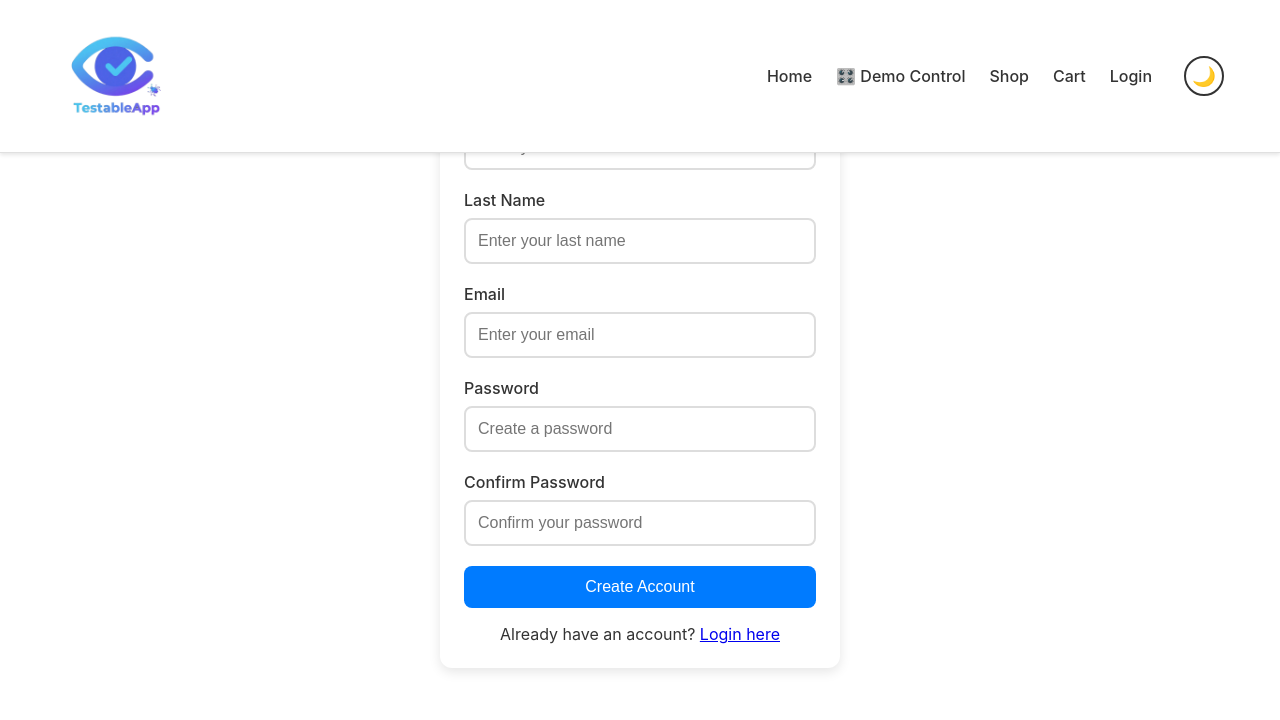
Test: Authentication Flow › Navigation between auth pages › should navigate from register to login
The width and height of the screenshot is (1280, 720).
(page scrolled)
Click the link with test id "login-link" at (740, 634), box [700, 624, 780, 644]
(page scrolled)
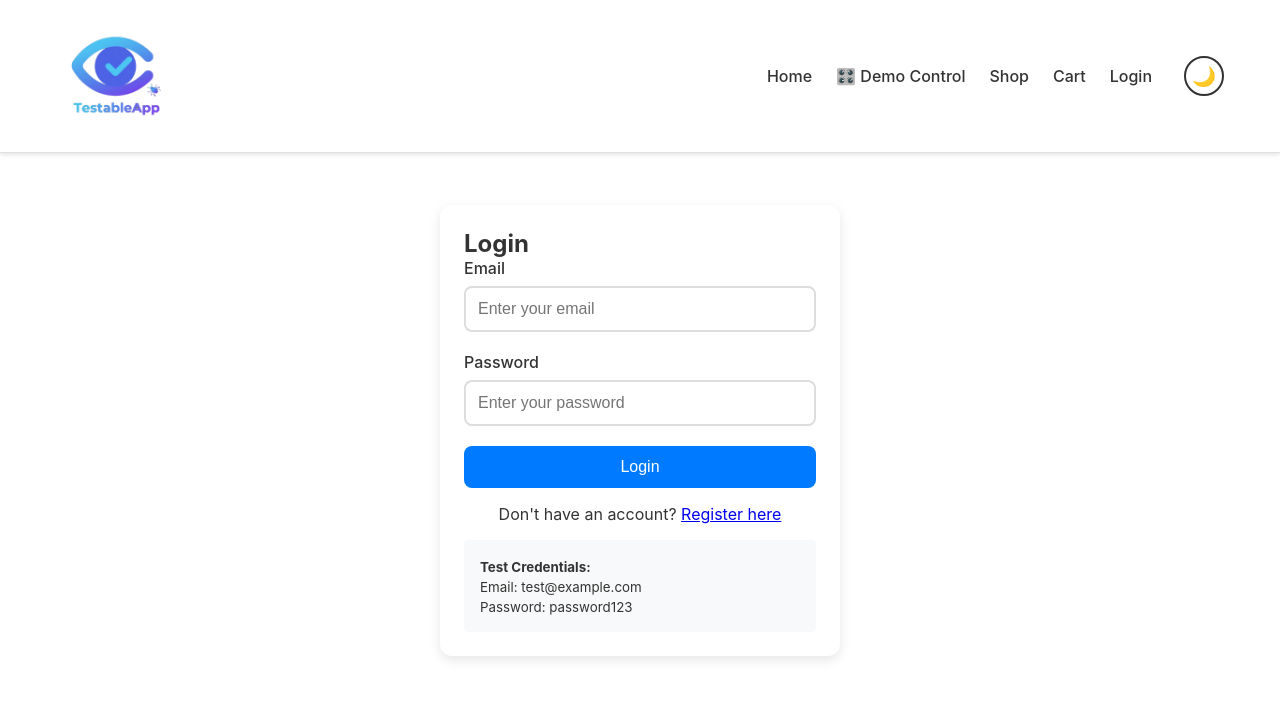
Check: the heading "Login" is shown, box [464, 229, 529, 258]
